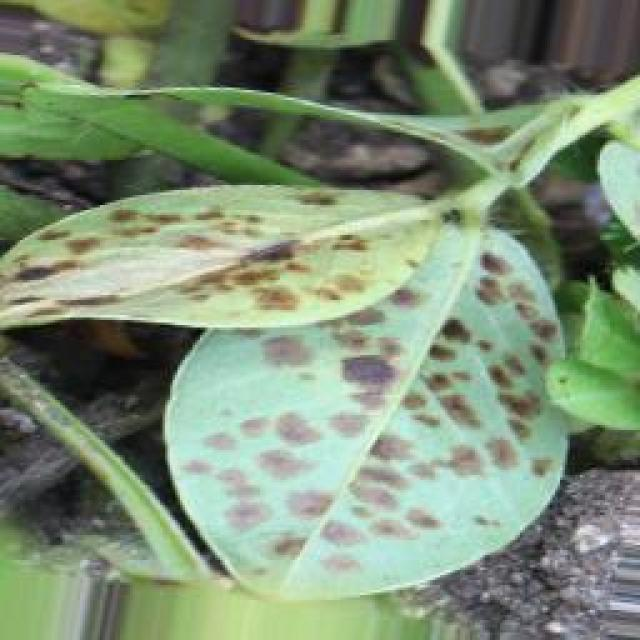Whitefly: (0, 141, 560, 576)
